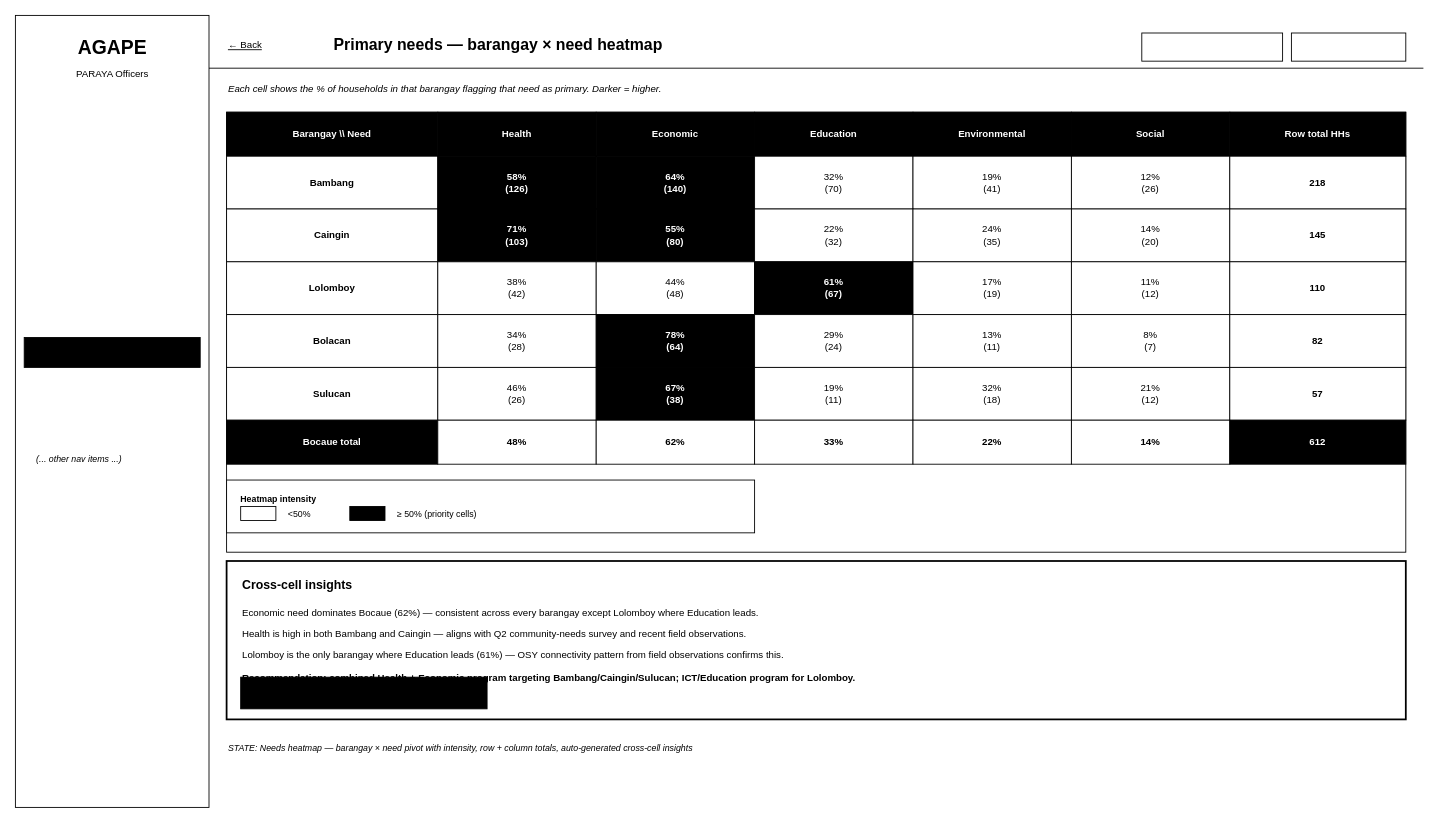
Some shapes in this 1440 by 823 pixel diagram are drawn without their labels. The box of each missing label's shape, as (x1, y1, x2, y2) in pixels:
[ Cycle: H1 2026 ▾ ]: (1141, 32, 1283, 61)
[ Export CSV ]: (1291, 32, 1406, 61)
[ ➤ Draft programs from these patterns ]: (240, 676, 487, 709)
[x] Community Profile: (23, 337, 200, 367)
